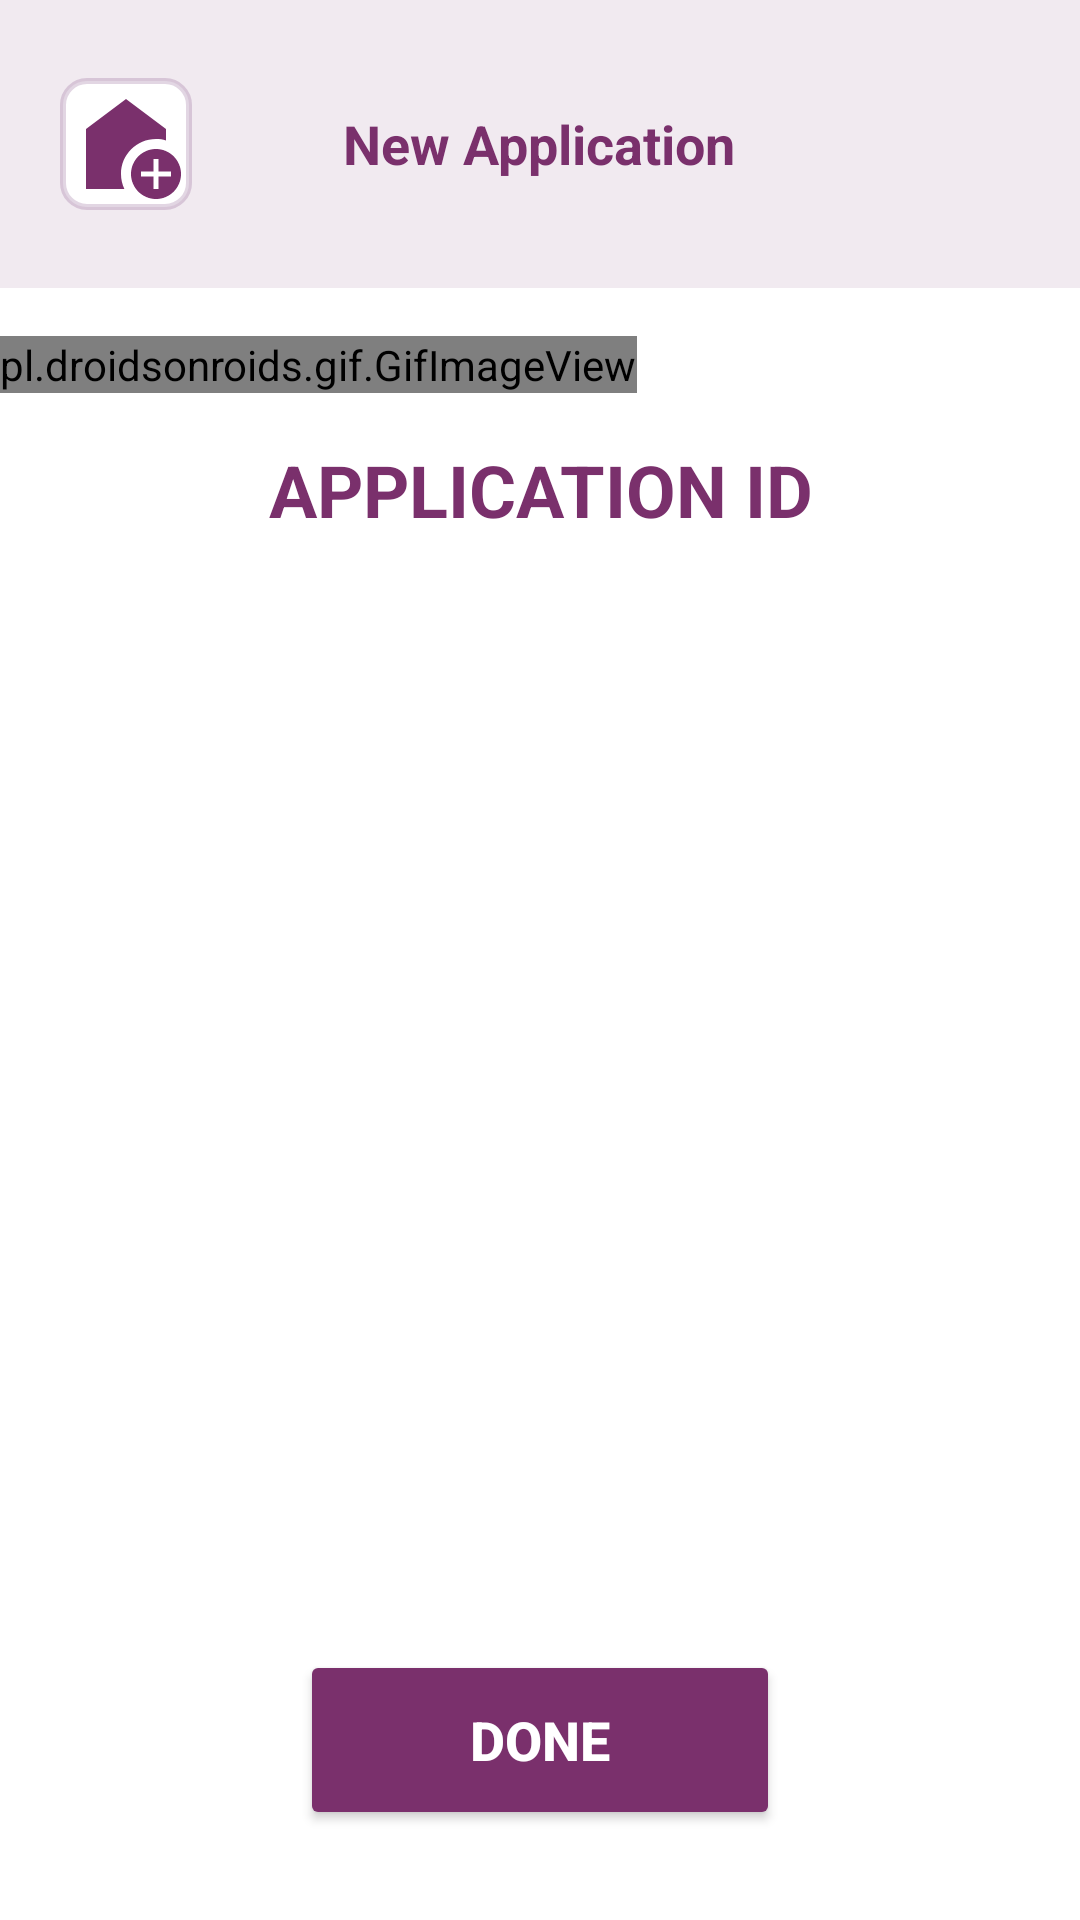

Screen size 1080×1920. Icon name, then its center in pixels as (x,y):
add home: (126,144)
